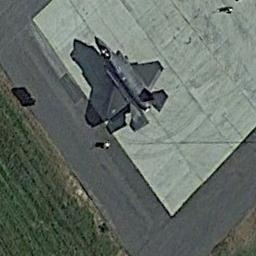Airplane: (86, 34, 176, 140)
